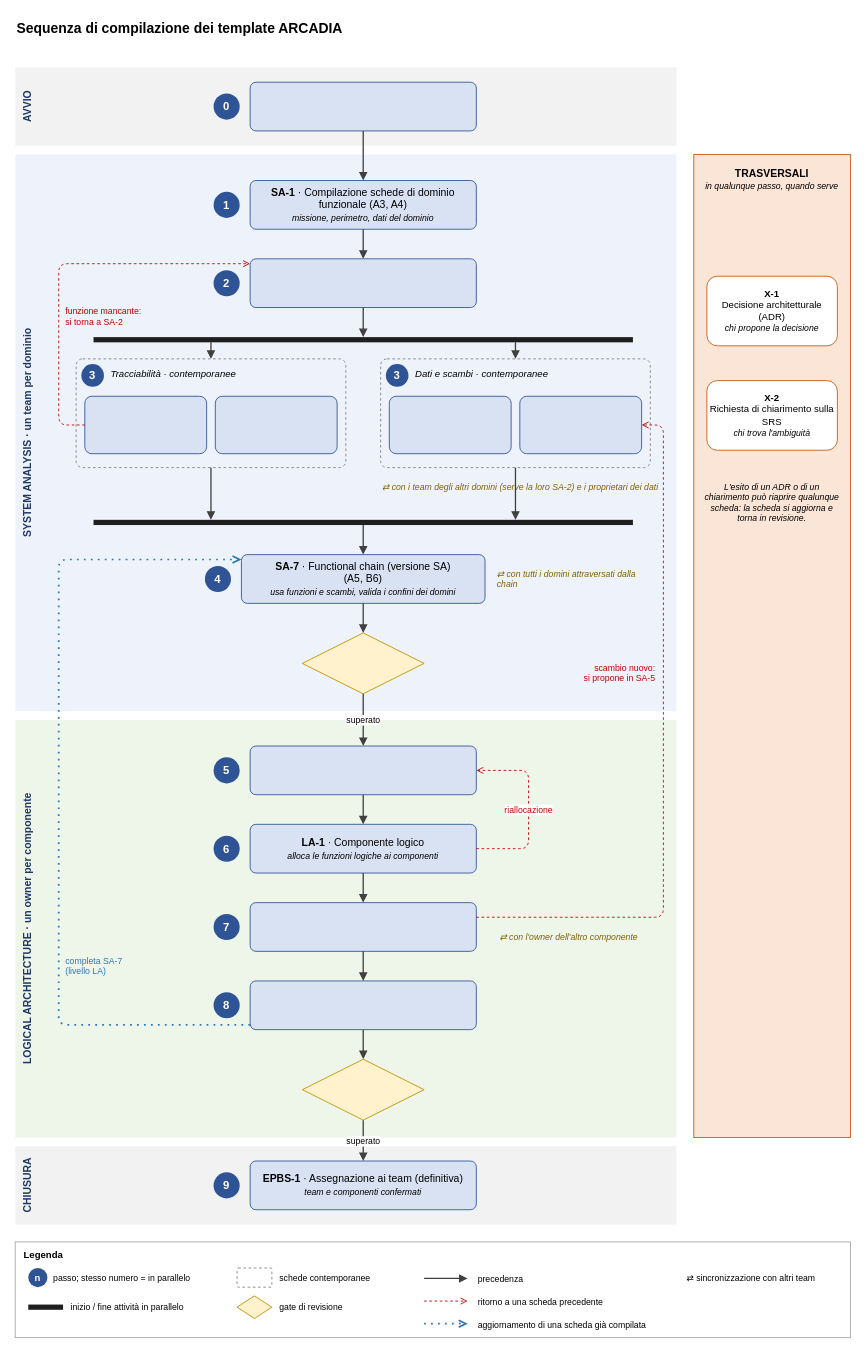
Some shapes in this 866 by 1353 pixel diagram are drawn without their labels. The shapes that lost their labels are listed below. From the top down, each one's centre as x and y in pixels, then its label:
pixel 362 106: EPBS-1 · Assegnazione ai team (bozza) (A2, A3) un team per dominio
pixel 362 283: SA-2 · Catalogo delle funzioni (B1, B2, B7) funzioni di sistema dei dominii
pixel 145 424: SA-3 Registro di tracciabilità (B5)
pixel 275 424: SA-4 Requisiti derivati (B6)
pixel 449 424: SA-6 Dizionario Exchange Item (B4)
pixel 580 424: SA-5 Accordo di scambio (FE) (B4)
pixel 362 663: Check Artefatti SA
pixel 362 770: LA-2 · Funzioni logiche raffina le funzioni di SA-2
pixel 362 926: LA-3 · Component Exchange realizza gli scambi di SA-5
pixel 362 1005: LA-4 · Realizzazione chain in LA verifica le chain SA-7 sui componenti
pixel 362 1089: Check Artefatti LA
